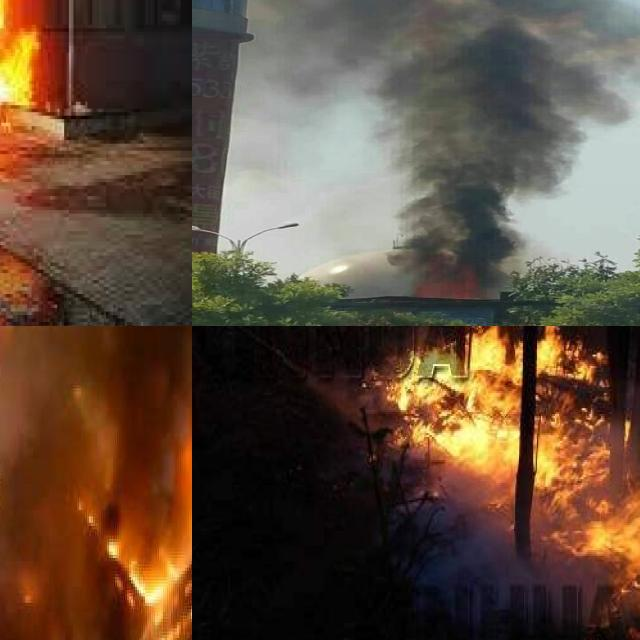fire: (270, 326, 640, 565), (61, 430, 192, 640), (396, 239, 505, 315), (0, 0, 69, 112)
smoke: (247, 0, 640, 275), (0, 326, 94, 640)
